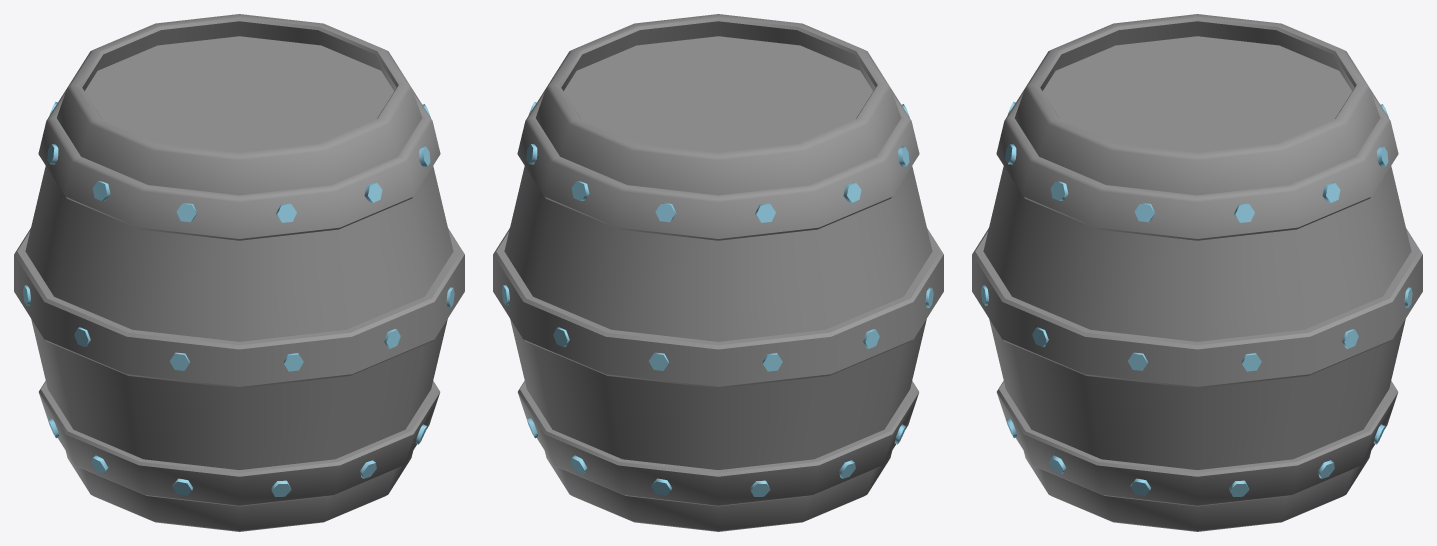
The model's file is barrelREDO.FBX.
The picture shows the model from 3 angles, left to right: view 1: azimuth 30°, elevation 25°; view 2: azimuth 150°, elevation 25°; view 3: azimuth 270°, elevation 25°; orthographic projection.
Visible parts, largest first — view 1: Cylinder001, Nubs; view 2: Cylinder001, Nubs; view 3: Cylinder001, Nubs.
Boxes of the visible parts, <box> form: Cylinder001: <box>14,14,464,531</box>; Nubs: <box>23,102,454,496</box>; Cylinder001: <box>493,14,943,531</box>; Nubs: <box>502,102,933,496</box>; Cylinder001: <box>972,14,1422,531</box>; Nubs: <box>981,102,1412,496</box>.
Bounding box in the file's own units: 26.39 × 24.28 × 26.39.
